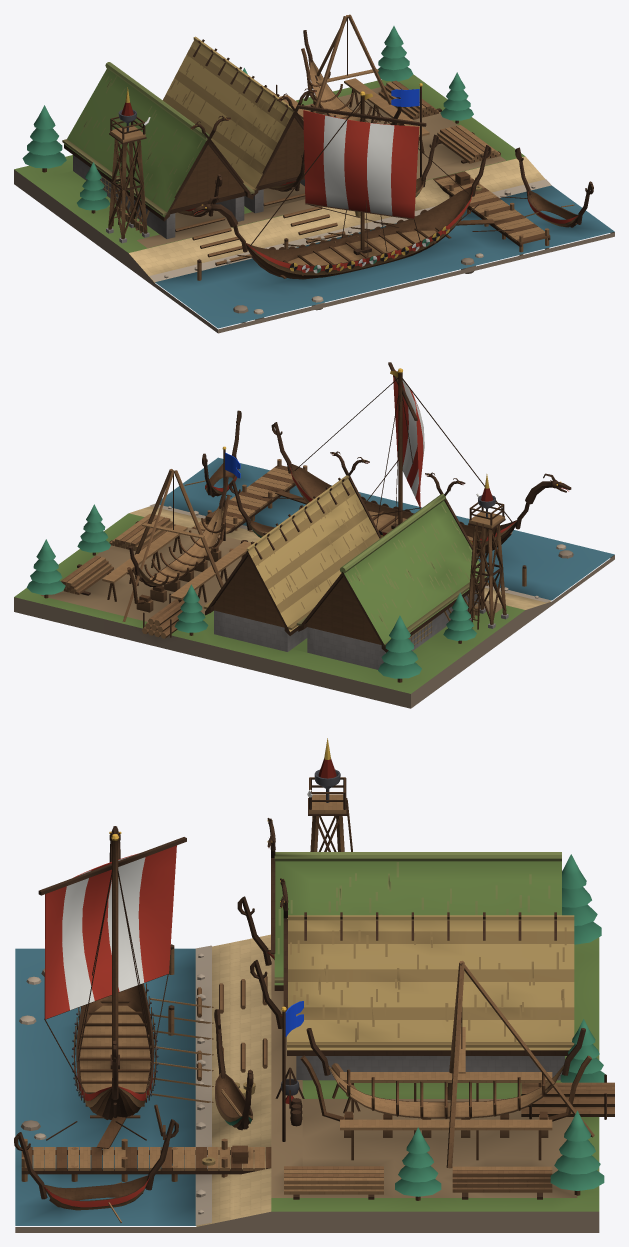
File: lm_naust.glb
3 views of the same model, one above another, from view 1: azimuth 30°, elevation 25°; view 2: azimuth 150°, elevation 25°; view 3: azimuth 270°, elevation 25° (orthographic). The views are drawn at different scales.
Parts seen in each view (by area): view 1: lm_naust; view 2: lm_naust; view 3: lm_naust.
Part boxes in pixels (box(x1,y1,x2,y2)): lm_naust: box(14, 14, 614, 333); lm_naust: box(14, 362, 614, 708); lm_naust: box(14, 738, 614, 1232).
Size of the model in its own units: 2.1 by 0.9132 by 1.92.
1 material, 1 textured.
